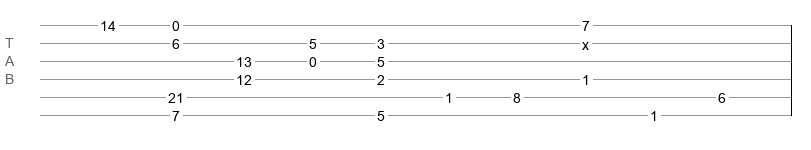0: (172, 18, 180, 28), (309, 54, 317, 64)
1: (445, 90, 453, 100), (582, 72, 590, 82), (650, 108, 658, 118)
12: (236, 72, 252, 82)
13: (236, 54, 252, 64)
14: (100, 18, 116, 28)
2: (377, 72, 385, 82)
21: (168, 90, 184, 100)
3: (377, 36, 385, 46)
5: (309, 36, 317, 46), (377, 108, 385, 118), (377, 54, 385, 64)
6: (172, 36, 180, 46), (718, 90, 726, 100)
7: (172, 108, 180, 118), (582, 18, 590, 28)
8: (513, 90, 521, 100)
x: (582, 37, 589, 45)
